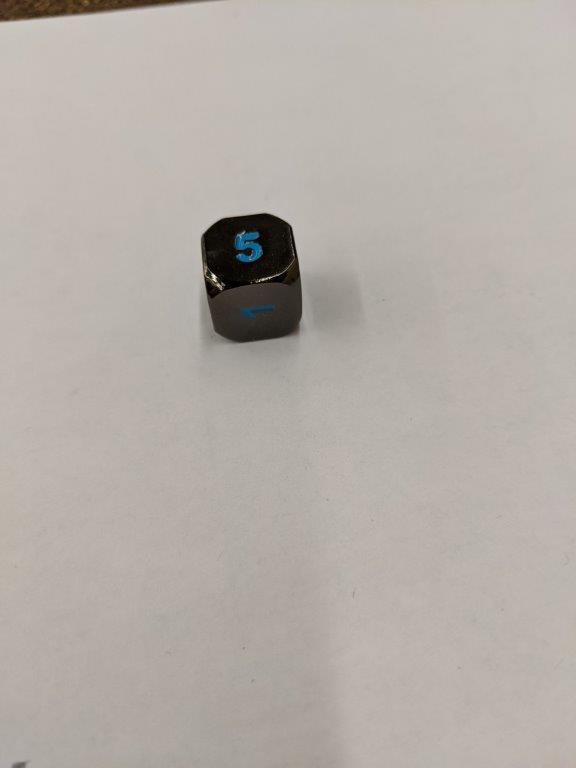d6-5: (197, 213, 306, 344)
